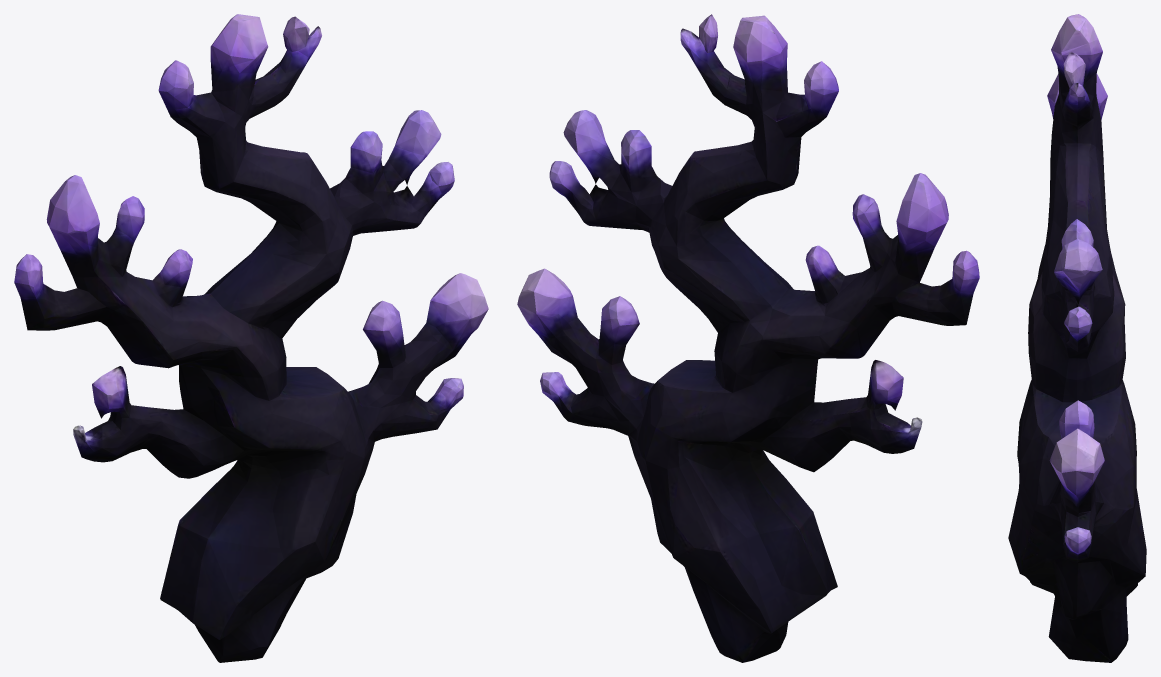
File: d_abimes_corail.glb
3 renders of one model, left to right at view 1: azimuth 30°, elevation 25°; view 2: azimuth 150°, elevation 25°; view 3: azimuth 270°, elevation 25°, orthographic. The views are drawn at different scales.
Parts seen in each view (by area): view 1: geometry_0; view 2: geometry_0; view 3: geometry_0.
Part boxes in pixels (x1,y1,x2,y2): geometry_0: (14, 14, 488, 662); geometry_0: (517, 14, 979, 662); geometry_0: (1008, 14, 1146, 662).
Size of the model in its own units: 0.7648 by 1 by 0.1976.
1 material, 1 textured.
